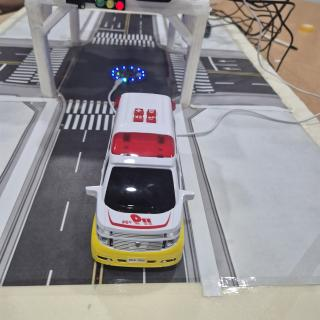Ambulance: (86, 93, 195, 268)
